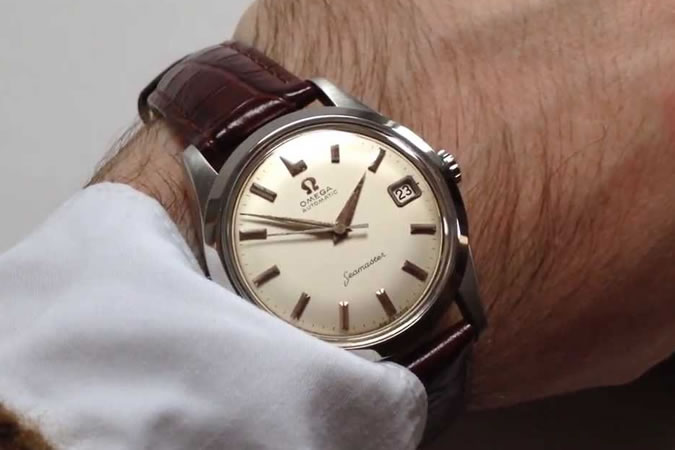clock: (227, 124, 444, 344)
